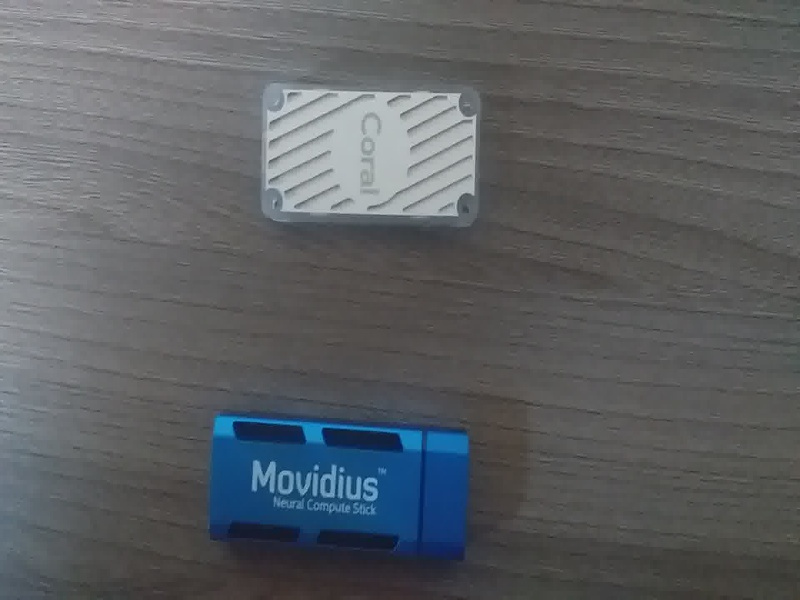coral: (259, 77, 488, 239)
movidius: (200, 408, 484, 567)
